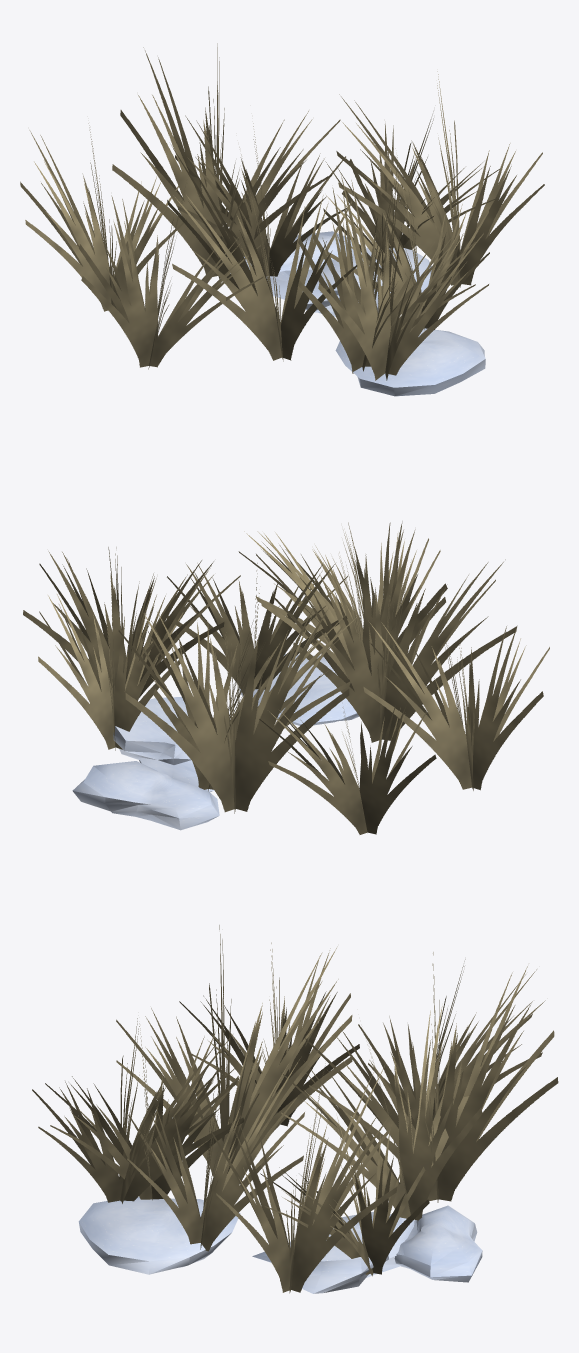
File: SM_Snow_FrozenGrass_A.glb
The picture shows the model from 3 angles, top to bottom: view 1: azimuth 30°, elevation 25°; view 2: azimuth 150°, elevation 25°; view 3: azimuth 270°, elevation 25°; orthographic projection. The views are drawn at different scales.
Visible parts, largest first — view 1: SM_Snow_FrozenGrass_A; view 2: SM_Snow_FrozenGrass_A; view 3: SM_Snow_FrozenGrass_A.
Part boxes in pixels (<box>): SM_Snow_FrozenGrass_A: <box>20,43,544,396</box>; SM_Snow_FrozenGrass_A: <box>23,521,549,834</box>; SM_Snow_FrozenGrass_A: <box>32,925,558,1293</box>.
Size of the model in its own units: 1.06 by 0.4576 by 0.9508.
2 materials, 2 textured.
